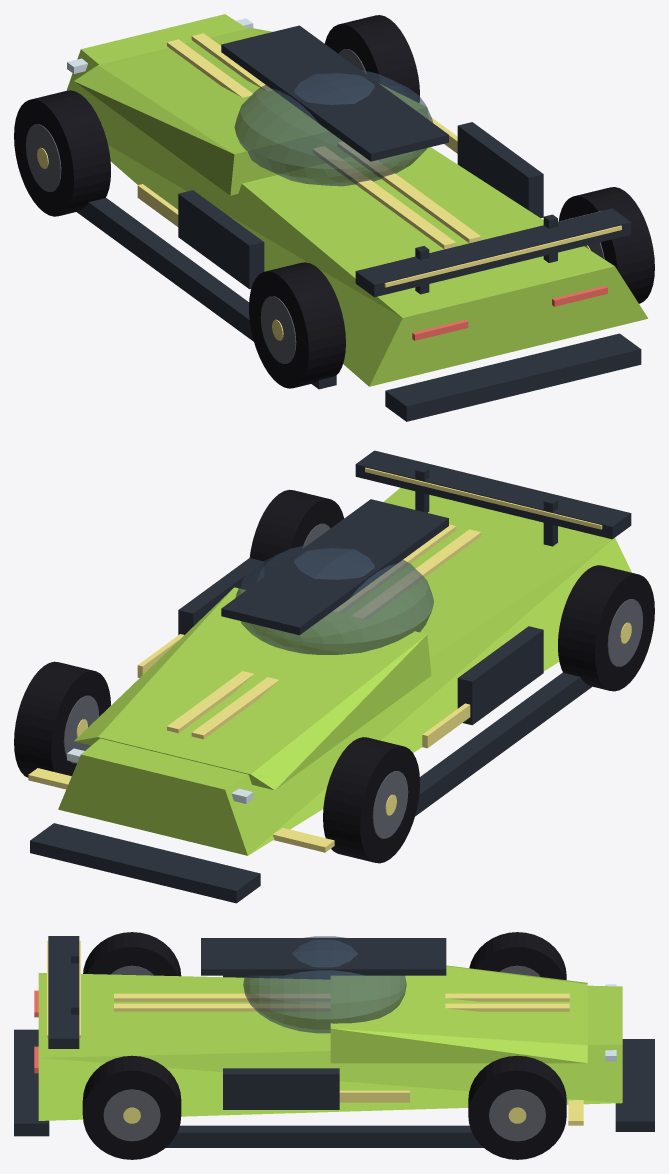
Rendered from blaze_r.glb.
3 views of the same model, one above another, from view 1: azimuth 30°, elevation 25°; view 2: azimuth 150°, elevation 25°; view 3: azimuth 270°, elevation 25° (orthographic). The views are drawn at different scales.
Visible parts, largest first — view 1: body_chassis, hood_slope, carbon_roof_spine, dark_cockpit_canopy, rear_diffuser, left_rear_tire, left_front_tire, rear_spoiler_wing, left_side_skirt, left_side_intake, right_rear_tire, right_front_tire (+7 smaller); view 2: body_chassis, hood_slope, carbon_roof_spine, dark_cockpit_canopy, left_front_tire, left_rear_tire, front_splitter, rear_spoiler_wing, right_front_tire, left_side_skirt, left_side_intake, right_rear_tire (+9 smaller); view 3: body_chassis, hood_slope, carbon_roof_spine, dark_cockpit_canopy, right_side_skirt, right_rear_tire, right_front_tire, right_side_intake, rear_spoiler_wing, front_splitter, left_rear_tire, left_front_tire (+8 smaller).
Boxes of the visible parts, <box> form: body_chassis: <box>66,14,647,386</box>; hood_slope: <box>74,28,428,195</box>; carbon_roof_spine: <box>221,25,448,161</box>; dark_cockpit_canopy: <box>234,70,432,186</box>; rear_diffuser: <box>385,333,641,421</box>; left_rear_tire: <box>249,262,345,388</box>; left_front_tire: <box>14,90,110,216</box>; rear_spoiler_wing: <box>355,208,631,297</box>; left_side_skirt: <box>77,198,336,389</box>; left_side_intake: <box>178,190,264,289</box>; right_rear_tire: <box>558,187,654,303</box>; right_front_tire: <box>324,15,419,102</box>; body_chassis: <box>58,487,631,855</box>; hood_slope: <box>74,587,431,790</box>; carbon_roof_spine: <box>221,499,448,635</box>; dark_cockpit_canopy: <box>235,545,433,654</box>; left_front_tire: <box>323,737,419,863</box>; left_rear_tire: <box>558,565,654,691</box>; front_splitter: <box>30,823,260,903</box>; rear_spoiler_wing: <box>355,450,631,539</box>; right_front_tire: <box>14,661,110,777</box>; left_side_skirt: <box>415,672,591,816</box>; left_side_intake: <box>457,626,543,725</box>; right_rear_tire: <box>249,489,344,576</box>; body_chassis: <box>38,973,622,1120</box>; hood_slope: <box>330,965,587,1063</box>; carbon_roof_spine: <box>201,938,446,975</box>; dark_cockpit_canopy: <box>243,936,406,1033</box>; right_side_skirt: <box>166,1125,483,1147</box>; right_rear_tire: <box>82,1055,181,1159</box>; right_front_tire: <box>468,1055,566,1159</box>; right_side_intake: <box>223,1068,339,1109</box>; rear_spoiler_wing: <box>48,936,79,1048</box>; front_splitter: <box>615,1039,654,1131</box>; left_rear_tire: <box>83,932,181,976</box>; left_front_tire: <box>469,932,566,979</box>.
Size of the model in its own units: 2.35 by 1.1 by 4.56.
